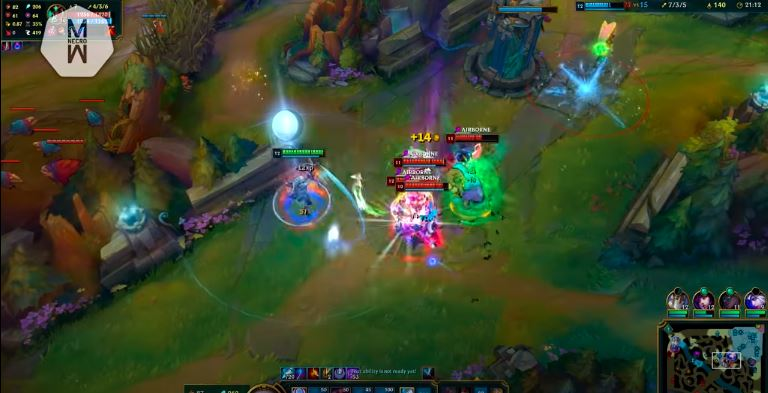bar: (391, 155, 447, 169), (269, 146, 327, 159), (443, 132, 501, 145), (384, 174, 440, 187), (573, 1, 637, 12), (395, 180, 449, 191)
